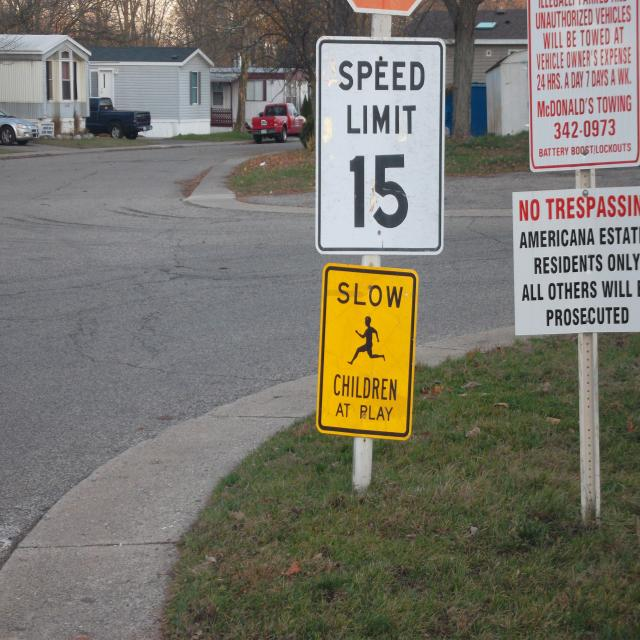regulatory: (315, 32, 446, 257)
warning: (316, 260, 419, 442)
